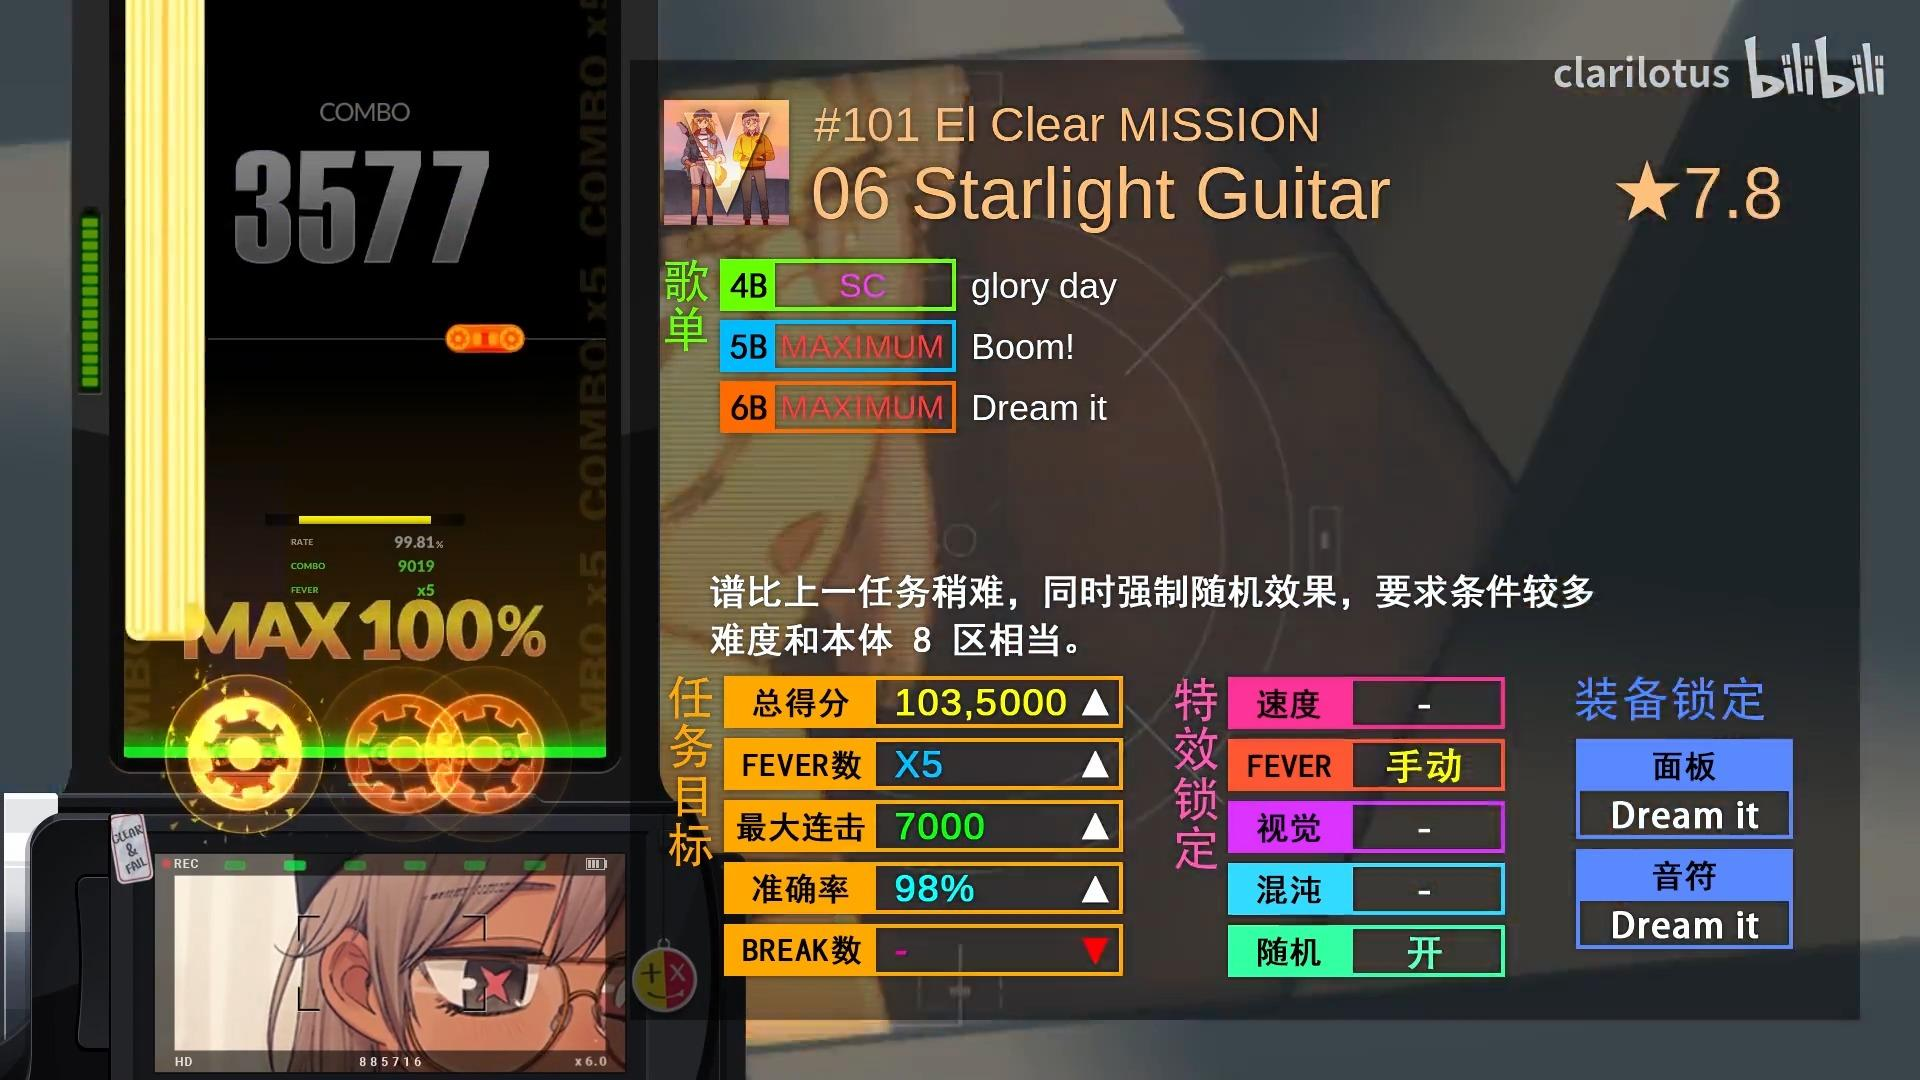hold-start: (124, 604, 204, 641)
note: (446, 323, 525, 353)
